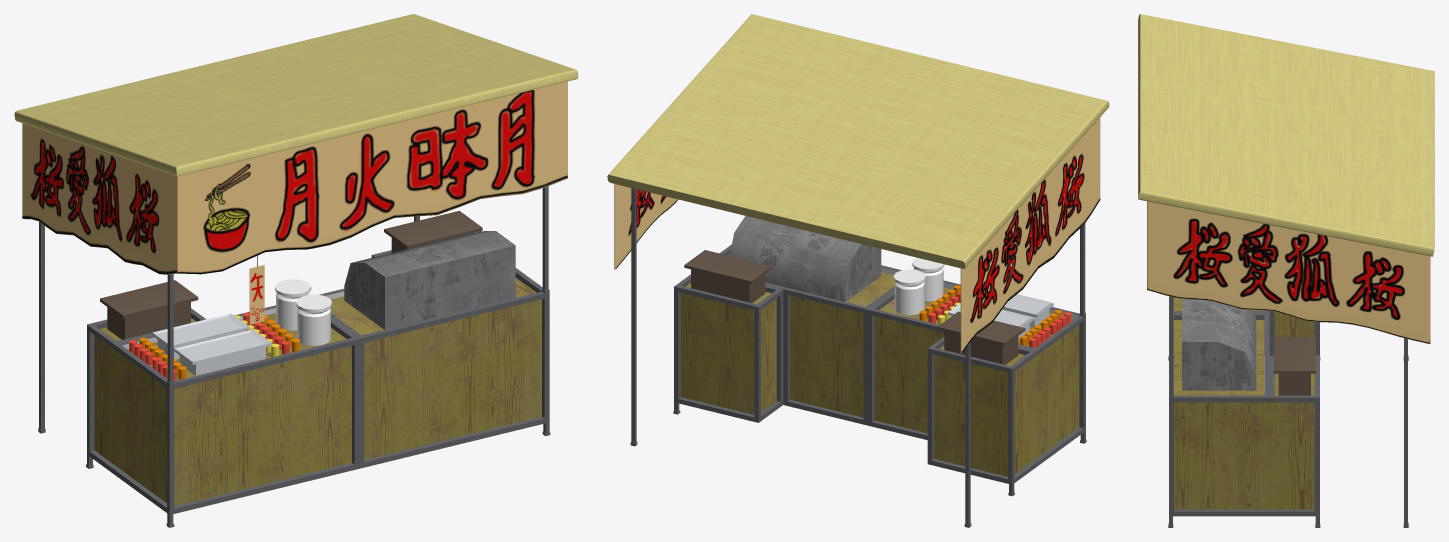
The model's file is japanese_noodle_stand.glb.
The picture shows the model from 3 angles, left to right: view 1: azimuth 30°, elevation 25°; view 2: azimuth 150°, elevation 25°; view 3: azimuth 270°, elevation 25°; orthographic projection. The views are drawn at different scales.
Visible parts, largest first — view 1: Stand, Banner; view 2: Stand, Banner; view 3: Stand, Banner.
Boxes of the visible parts, x1,y1,x2,y2 form: Stand: [14, 14, 578, 527]; Banner: [22, 81, 567, 274]; Stand: [607, 14, 1109, 527]; Banner: [614, 117, 1100, 353]; Stand: [1138, 14, 1434, 527]; Banner: [1147, 201, 1430, 343].
Size of the model in its own units: 2 by 1.78 by 1.4.
Materials: 2 (2 with a texture image).
